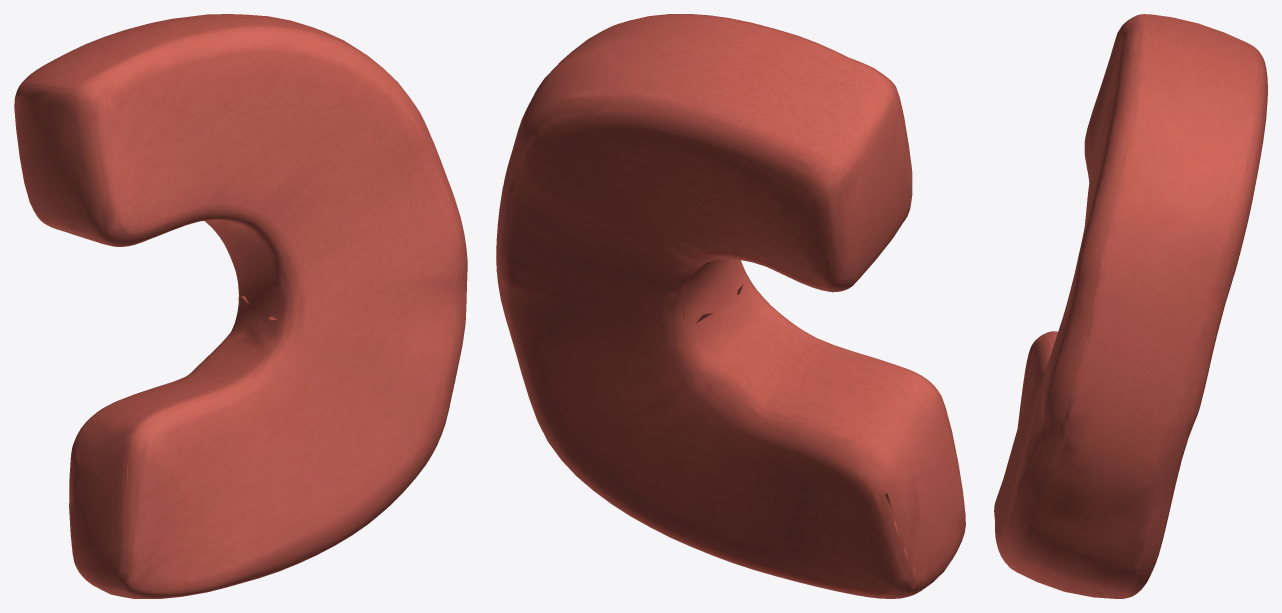
The model's file is Stack 0C - D.glb.
The picture shows the model from 3 angles, left to right: view 1: azimuth 30°, elevation 25°; view 2: azimuth 150°, elevation 25°; view 3: azimuth 270°, elevation 25°; orthographic projection. The views are drawn at different scales.
Visible parts, largest first — view 1: Stack 0C - D · mesh; view 2: Stack 0C - D · mesh; view 3: Stack 0C - D · mesh.
Part boxes in pixels (x1=…): Stack 0C - D · mesh: x1=14, y1=14, x2=467, y2=598; Stack 0C - D · mesh: x1=496, y1=14, x2=965, y2=598; Stack 0C - D · mesh: x1=994, y1=14, x2=1267, y2=598.
Size of the model in its own units: 0.7642 by 1 by 0.478.
Materials: 1 (1 with a texture image).
